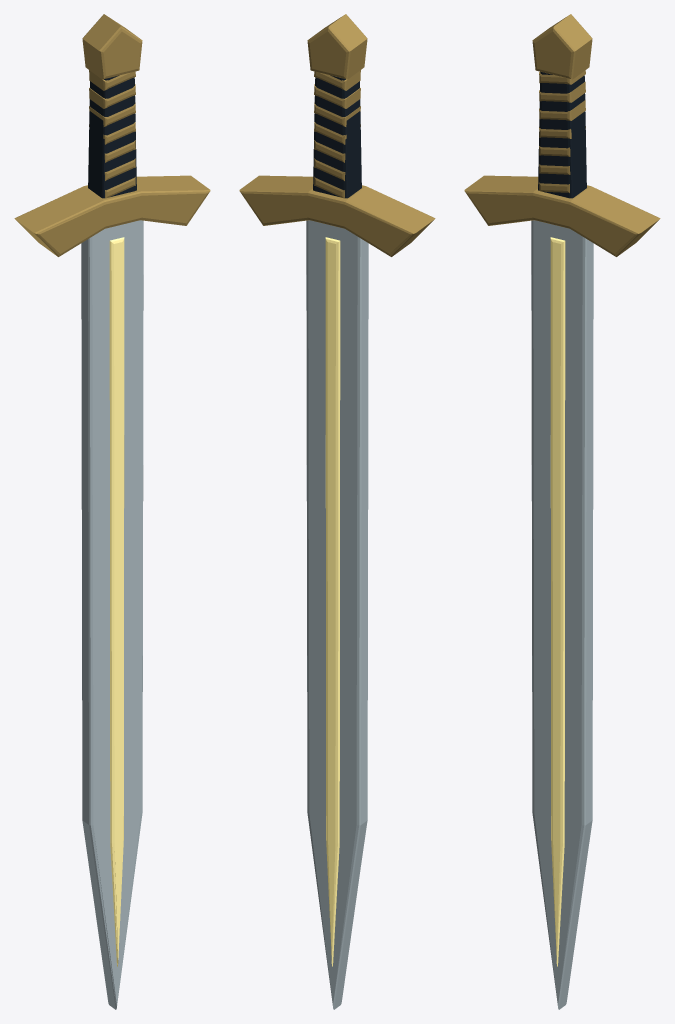
File: sword.glb
3 views of the same model, side by side, from view 1: azimuth 30°, elevation 25°; view 2: azimuth 150°, elevation 25°; view 3: azimuth 330°, elevation 25° (orthographic).
Visible parts, largest first — view 1: double-edge, star-ridge, swept-guard, wrapped-grip, pommel, grip-binding-1; view 2: double-edge, star-ridge, swept-guard, wrapped-grip, pommel, grip-binding-1; view 3: double-edge, star-ridge, swept-guard, wrapped-grip, pommel, grip-binding-1, grip-binding-2.
Part boxes in pixels (x1=…): double-edge: x1=81, y1=220, x2=143, y2=1009; star-ridge: x1=109, y1=237, x2=124, y2=966; swept-guard: x1=14, y1=175, x2=210, y2=256; wrapped-grip: x1=88, y1=75, x2=136, y2=198; pommel: x1=82, y1=14, x2=142, y2=79; grip-binding-1: x1=89, y1=84, x2=135, y2=108; double-edge: x1=306, y1=220, x2=368, y2=1009; star-ridge: x1=325, y1=237, x2=340, y2=966; swept-guard: x1=239, y1=175, x2=435, y2=256; wrapped-grip: x1=313, y1=75, x2=361, y2=198; pommel: x1=307, y1=14, x2=367, y2=79; grip-binding-1: x1=314, y1=84, x2=360, y2=108; double-edge: x1=531, y1=220, x2=593, y2=1009; star-ridge: x1=550, y1=237, x2=565, y2=966; swept-guard: x1=464, y1=175, x2=660, y2=256; wrapped-grip: x1=538, y1=71, x2=586, y2=198; pommel: x1=532, y1=14, x2=592, y2=79; grip-binding-1: x1=539, y1=81, x2=585, y2=102; grip-binding-2: x1=539, y1=100, x2=585, y2=120.
Size of the model in its own units: 0.3361 by 1.8 by 0.073.
